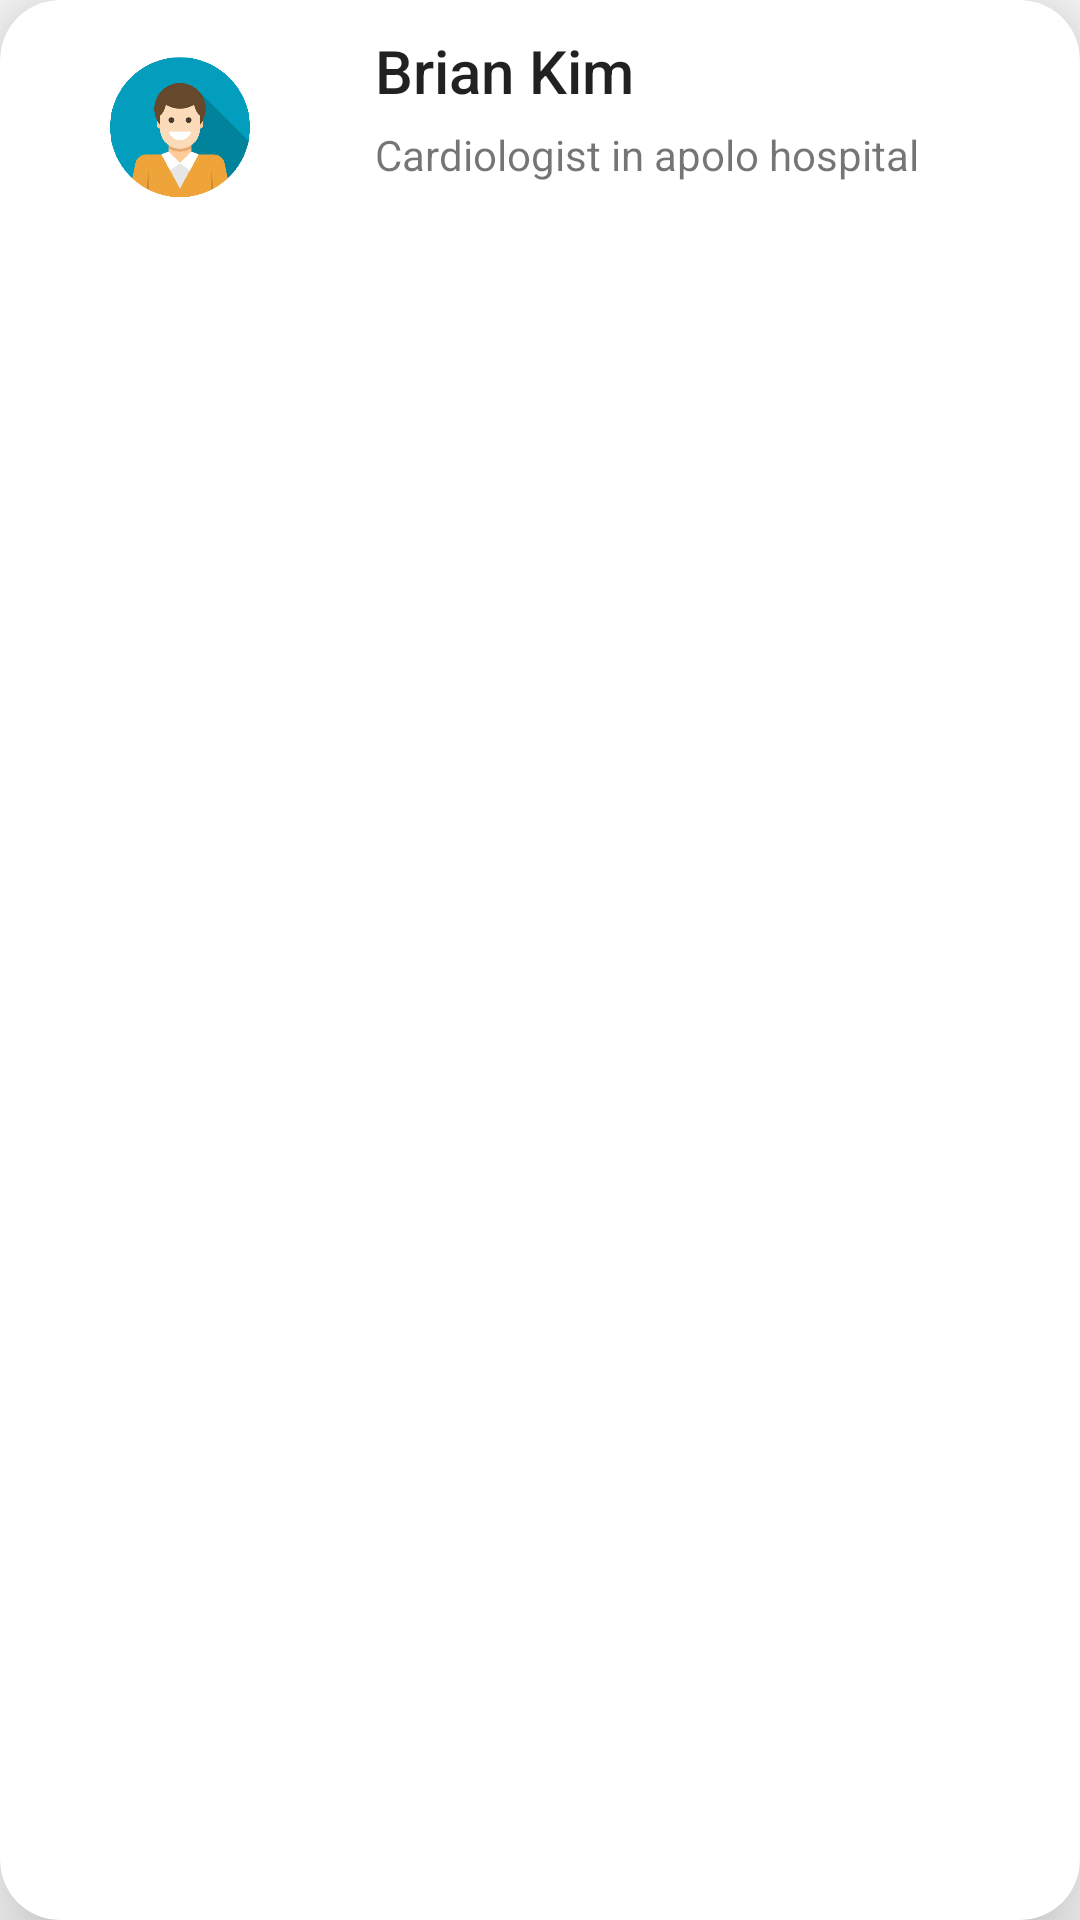

Icon click points for this 1080px×1920px phone screenshot, format point (x, y):
usercard: point (180, 127)
